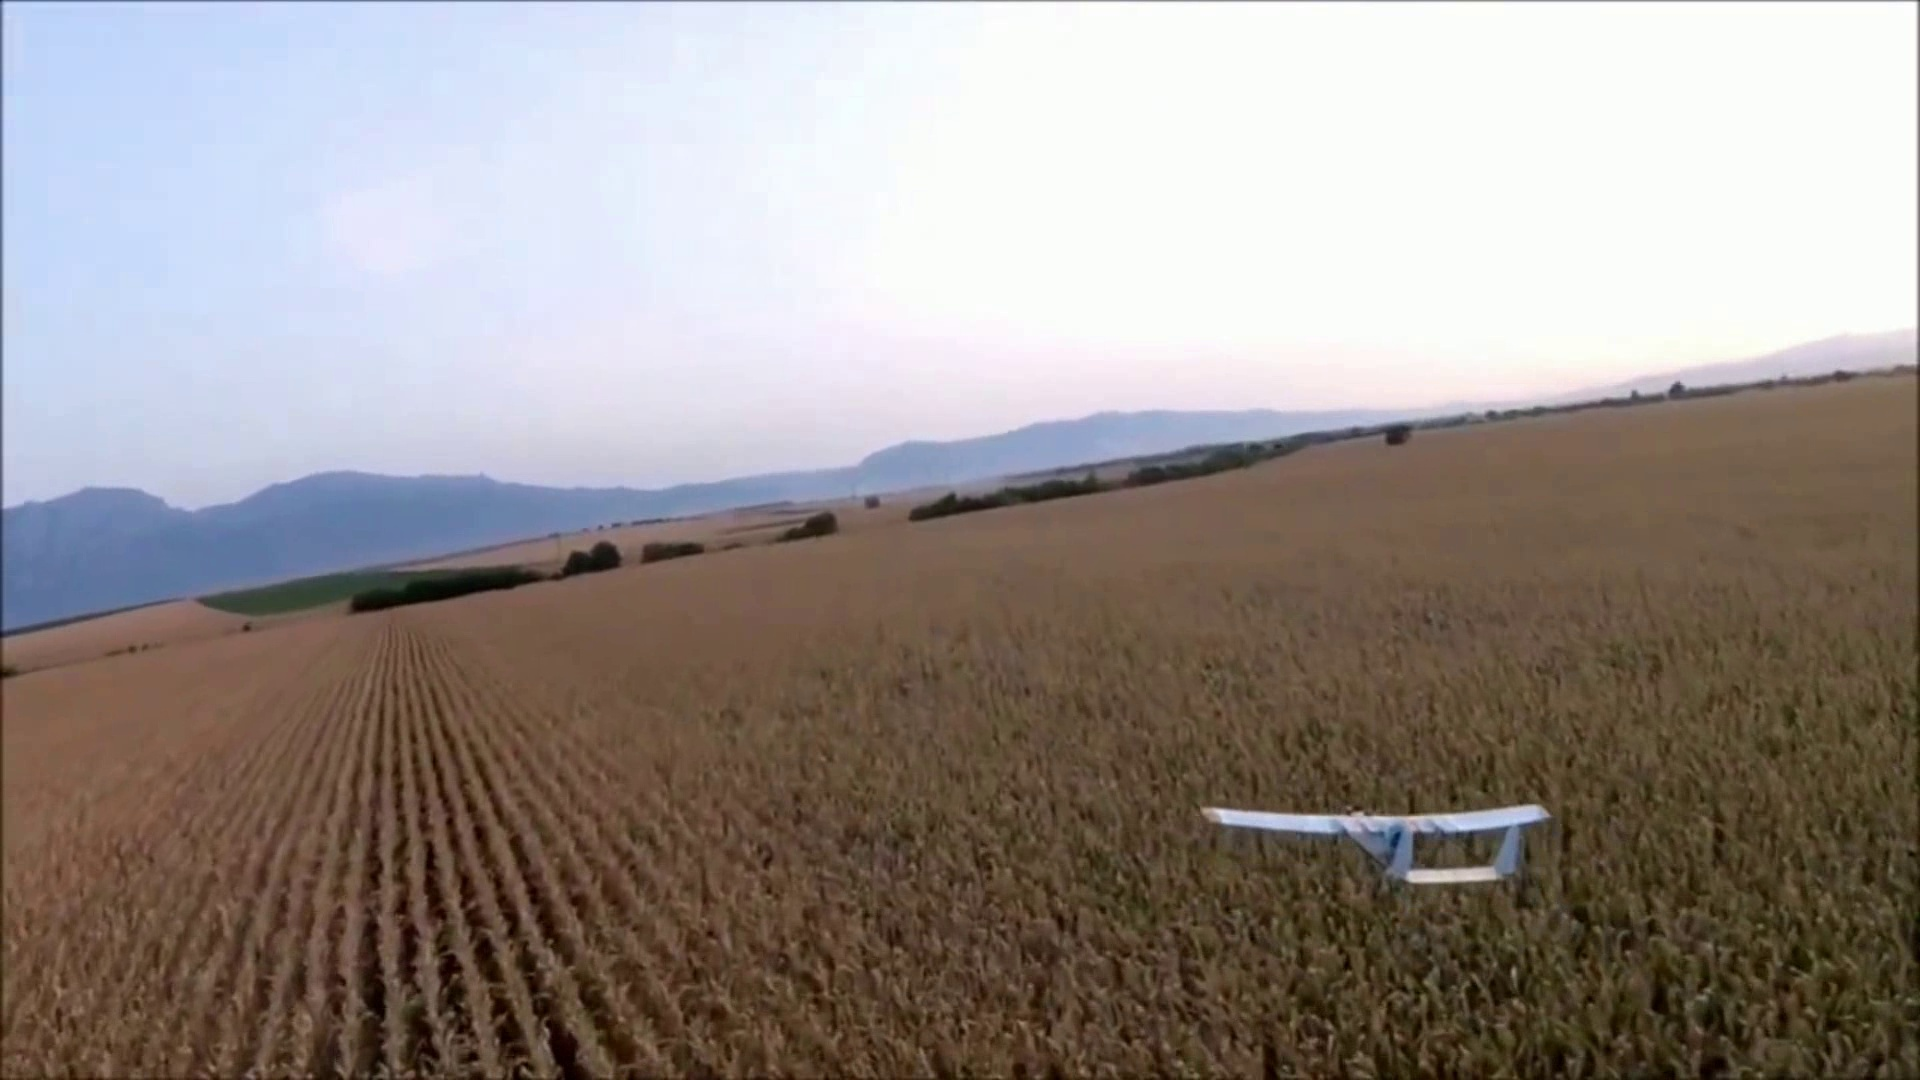airplane: (1199, 802, 1553, 891)
